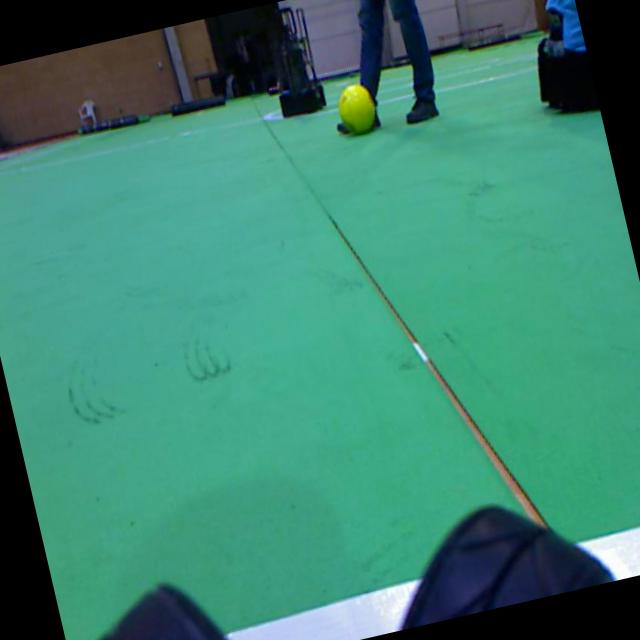ball: (338, 84, 375, 132)
robot: (278, 7, 325, 116)
